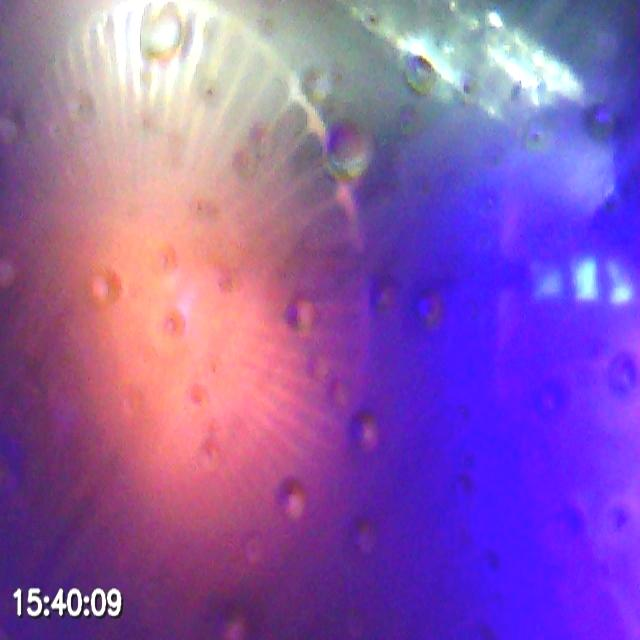white-dots: (532, 254, 640, 308)
